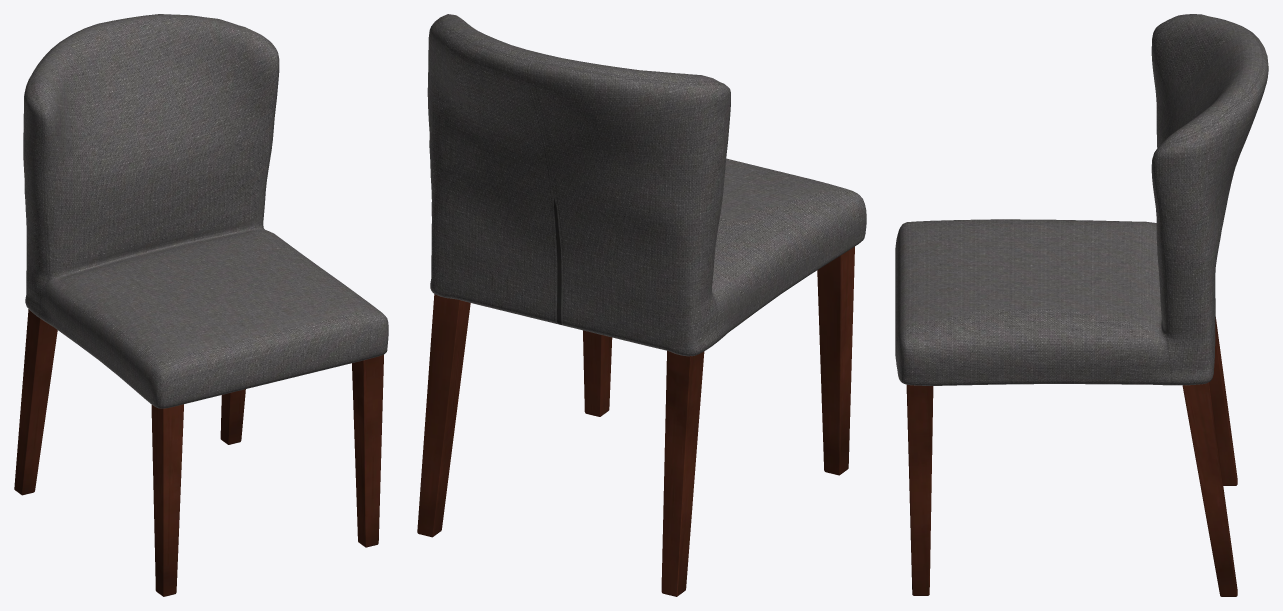
File: abo-B0853L224Z.glb
The picture shows the model from 3 angles, left to right: view 1: azimuth 30°, elevation 25°; view 2: azimuth 150°, elevation 25°; view 3: azimuth 270°, elevation 25°; orthographic projection. The views are drawn at different scales.
Bounding box in the file's own units: 0.491 × 0.839 × 0.589.
Materials: 1 (1 with a texture image).
